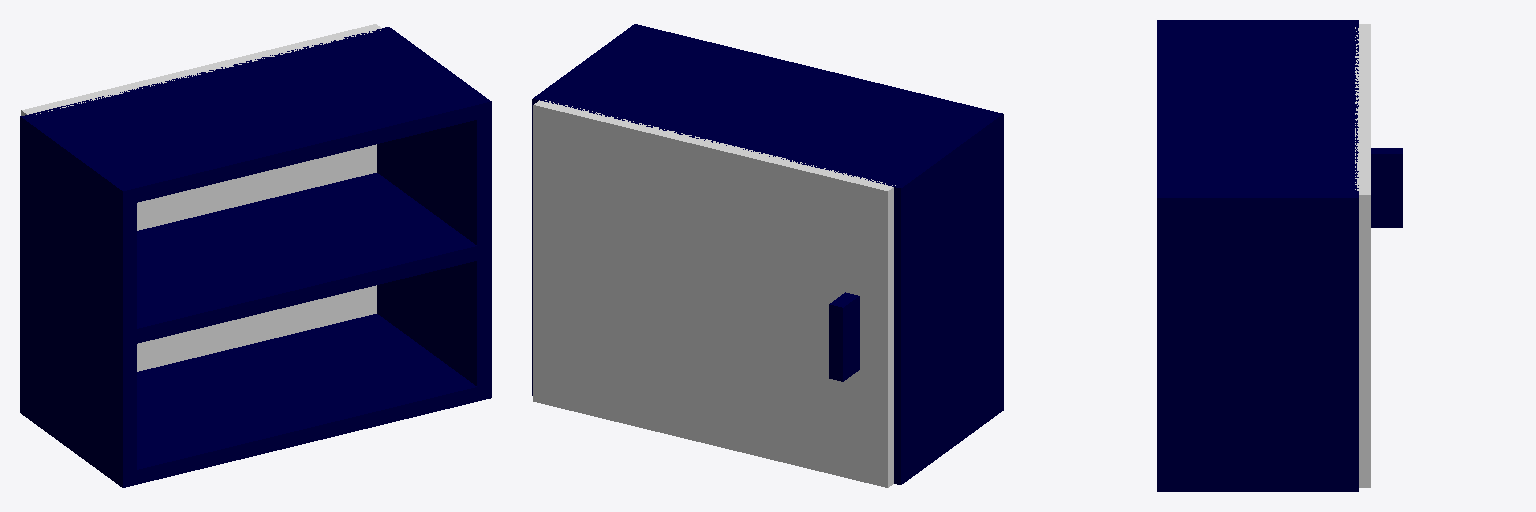
URDF robot description (slide_cabinet.urdf):
<?xml version="1.0" ?>
<robot name="slide_cabinet.urdf">
  <material name="Caramel">
    <color rgba=".95 .8 .54 1"/>
  </material>
  <material name="White">
    <color rgba=".9 .9 .9 1"/>
  </material>
  <material name="Navy Blue">
    <color rgba="0 0 .3 1"/>
  </material>
  <link name="base_link">
    <contact>
      <lateral_friction value="1.0"/>
    </contact>
    <inertial>
      <origin rpy="0 0 0" xyz="0 0 0"/>
      <mass value=".0"/>
      <inertia ixx="1" ixy="0" ixz="0" iyy="1" iyz="0" izz="1"/>
    </inertial>
    <visual>
      <origin rpy="0 0 0" xyz=".25 0 0"/>
      <geometry>
				<box size=".02 .25 .4"/>
      </geometry>
      <material name="Navy Blue"/>
    </visual>
    <collision>
      <origin rpy="0 0 0" xyz=".25 0 0"/>
      <geometry>
				<box size=".02 .25 .4"/>
      </geometry>
    </collision>

    <visual>
      <origin rpy="0 0 0" xyz="-.25 0 0"/>
      <geometry>
				<box size=".02 .25 .4"/>
      </geometry>
      <material name="Navy Blue"/>
    </visual>
    <collision>
      <origin rpy="0 0 0" xyz="-.25 0 0"/>
      <geometry>
				<box size=".02 .25 .4"/>
      </geometry>
    </collision>

    <visual>
      <origin rpy="0 0 0" xyz="0 0 .19"/>
      <geometry>
				<box size=".5 .25 .02"/>
      </geometry>
      <material name="Navy Blue"/>
    </visual>
    <collision>
      <origin rpy="0 0 0" xyz="0 0 .19"/>
      <geometry>
				<box size=".5 .25 .02"/>
      </geometry>
    </collision>

    <visual>
      <origin rpy="0 0 0" xyz="0 0 0"/>
      <geometry>
				<box size=".5 .25 .02"/>
      </geometry>
      <material name="Navy Blue"/>
    </visual>
    <collision>
      <origin rpy="0 0 0" xyz="0 0 0"/>
      <geometry>
				<box size=".5 .25 .02"/>
      </geometry>
    </collision>

    <visual>
      <origin rpy="0 0 0" xyz="0 0 -.19"/>
      <geometry>
				<box size=".5 .25 .02"/>
      </geometry>
      <material name="Navy Blue"/>
    </visual>
    <collision>
      <origin rpy="0 0 0" xyz="0 0 -.19"/>
      <geometry>
				<box size=".5 .25 .02"/>
      </geometry>
    </collision>
  </link>

  <link name="door_link">
    <contact>
      <lateral_friction value="1.0"/>
    </contact>
    <inertial>
      <origin rpy="0 0 0" xyz="0 0 0"/>
      <mass value=".0"/>
      <inertia ixx="1" ixy="0" ixz="0" iyy="1" iyz="0" izz="1"/>
    </inertial>
    <visual>
      <origin rpy="0 0 0" xyz="0 .13 0"/>
      <geometry>
				<box size=".5 .02 .4"/>
      </geometry>
      <material name="White"/>
    </visual>
    <collision>
      <origin rpy="0 0 0" xyz="0 .13 0"/>
      <geometry>
				<box size=".5 .02 .4"/>
      </geometry>
    </collision>
  </link>
  <link name="handle_link">
    <contact>
      <lateral_friction value="1.0"/>
    </contact>
    <inertial>
      <origin rpy="0 0 0" xyz="0 0 0"/>
      <mass value=".0"/>
      <inertia ixx="1" ixy="0" ixz="0" iyy="1" iyz="0" izz="1"/>
    </inertial>
    <visual>
      <origin rpy="0 0 0" xyz="-.2 .145 0"/>
      <geometry>
				<box size=".02 .07 .1"/>
      </geometry>
      <material name="Navy Blue"/>
    </visual>
    <collision>
      <origin rpy="0 0 0" xyz="-.2 .145 0"/>
      <geometry>
				<box size=".02 .07 .1"/>
      </geometry>
    </collision>
  </link>
  <joint name="slide" type="prismatic">
    <parent link="base_link"/>
    <child link="door_link"/>
    <origin xyz="0 0 0" rpy="0 0 0"/>
    <axis xyz="1 0 0"/>
    <limit lower="0" upper=".5" effort=".01" velocity="100"/>
  </joint>
  <joint name="handle" type="fixed">
    <parent link="door_link"/>
    <child link="handle_link"/>
    <origin xyz="0 0 0" rpy="0 0 0"/>
  </joint>
</robot>

--- What the picture shows (computed from the rendered views, not written in the file) ---
Views: 3 orthographic renders of the robot side by side, from view 1: azimuth 30°, elevation 25°; view 2: azimuth 150°, elevation 25°; view 3: azimuth 270°, elevation 25°.
Robot: slide_cabinet.urdf — 3 links, 2 joints (1 prismatic, 1 fixed); root link base_link; default pose: all joints at 0.
Visible links, largest first — view 1: base_link, door_link; view 2: door_link, base_link, handle_link; view 3: base_link, door_link, handle_link.
Link boxes in pixels (x1=…): base_link: x1=20, y1=27, x2=491, y2=487; door_link: x1=21, y1=24, x2=381, y2=371; door_link: x1=533, y1=100, x2=895, y2=487; base_link: x1=532, y1=24, x2=1003, y2=484; handle_link: x1=829, y1=292, x2=859, y2=381; base_link: x1=1157, y1=20, x2=1358, y2=491; door_link: x1=1355, y1=24, x2=1370, y2=487; handle_link: x1=1371, y1=148, x2=1402, y2=227.
Bounding box of the posed robot: 0.52 × 0.305 × 0.4 m (x, y, z).
Geometry: primitives only (box / cylinder / sphere), no mesh files.